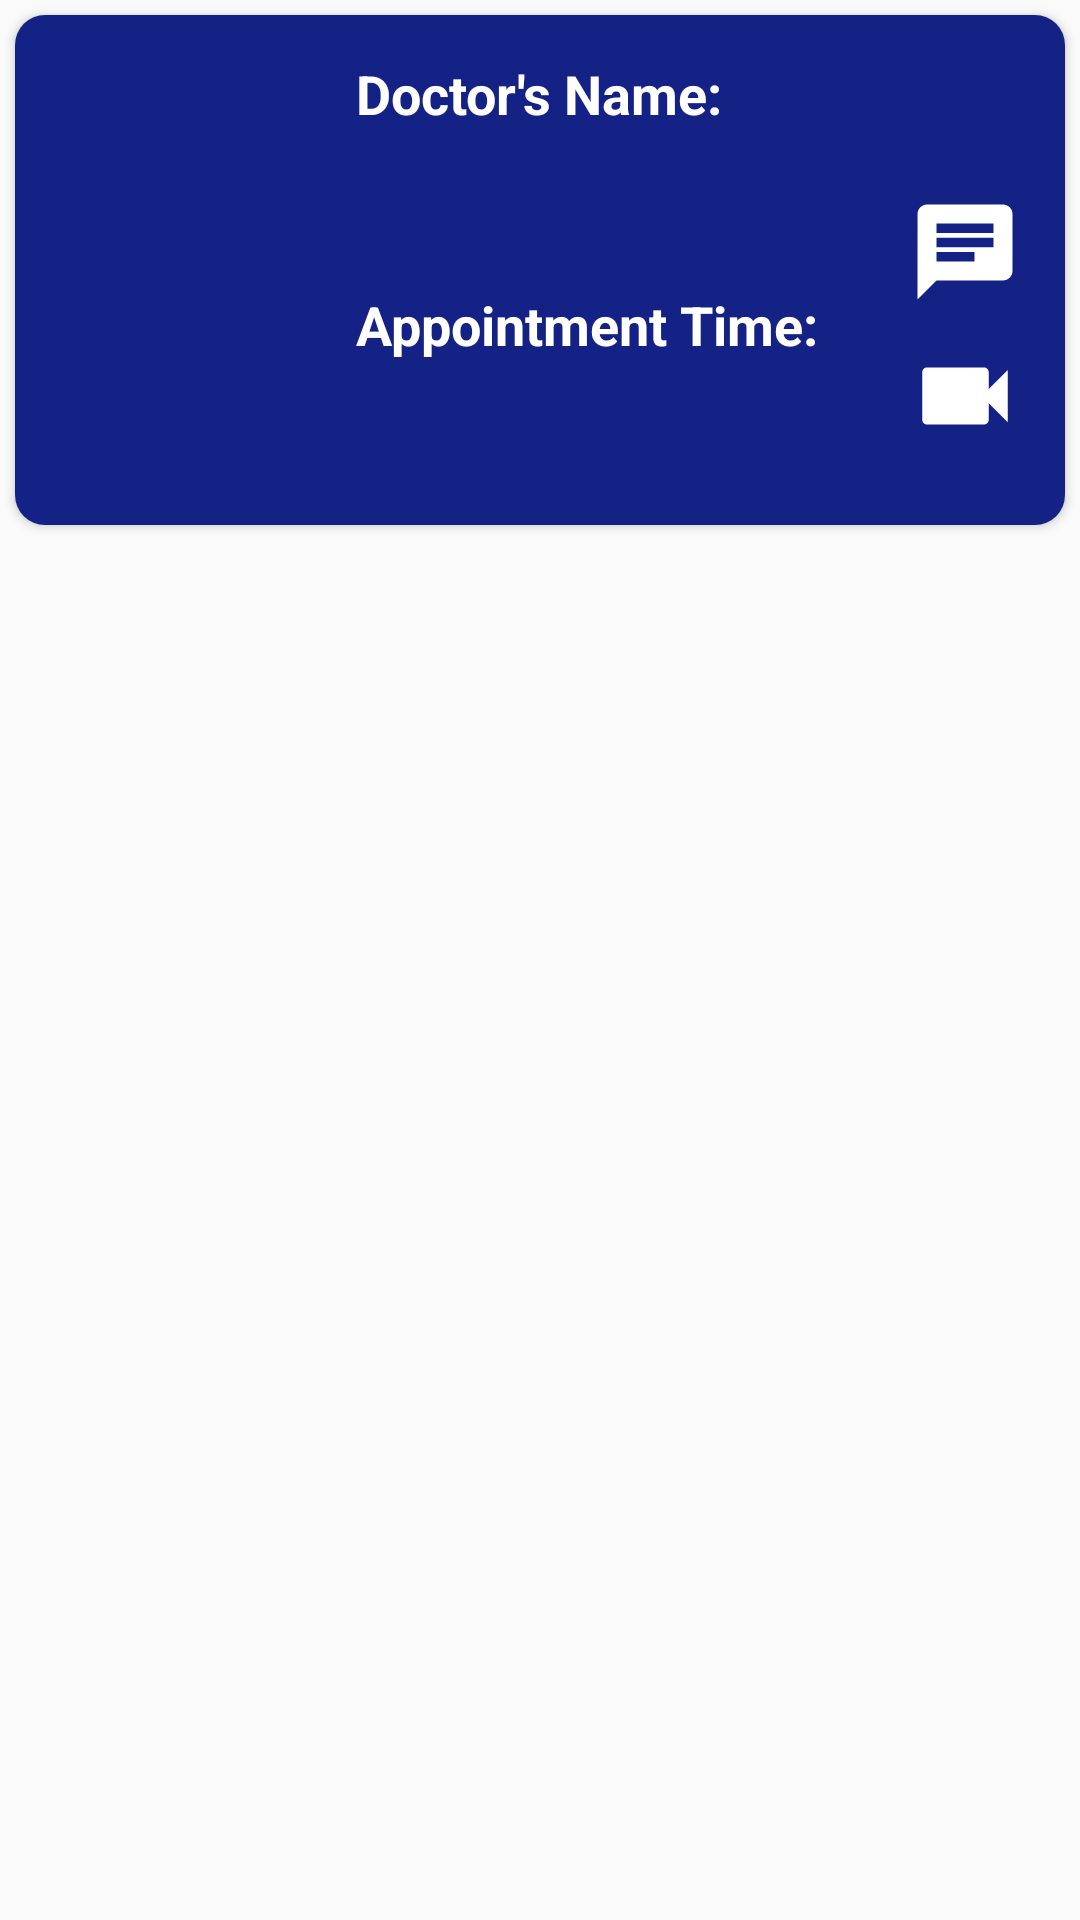

Icon bounding boxes for this 1080 × 1920 phone screenshot, format Rect(x1, y1, x2, y2):
chat: Rect(917, 204, 1013, 300)
video call: Rect(922, 367, 1008, 425)
